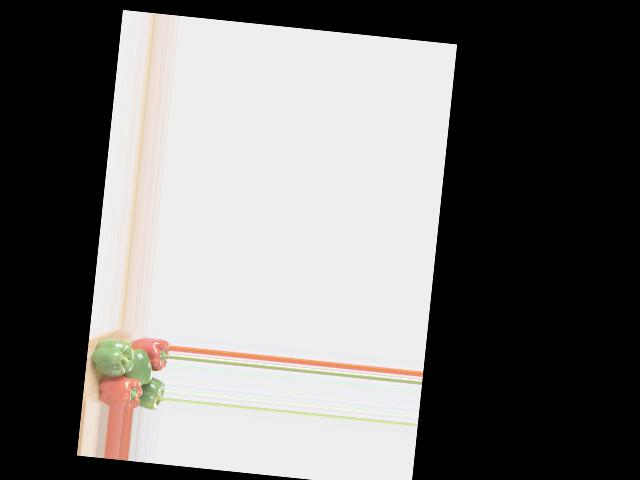bell_pepper: (93, 372, 142, 408)
